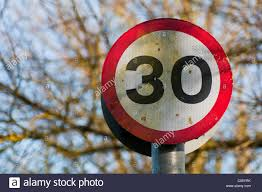Speed_limit_30km: (103, 17, 234, 145)
